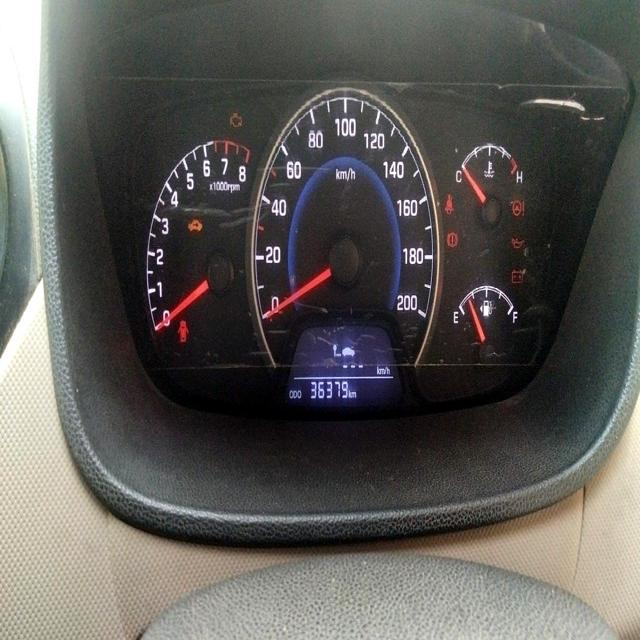odometer: (308, 378, 349, 401)
